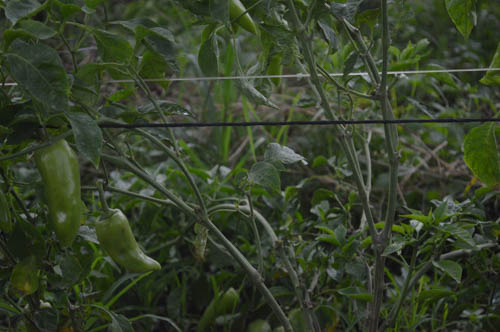ChiliPepper: (94, 213, 159, 275), (42, 147, 80, 244)
